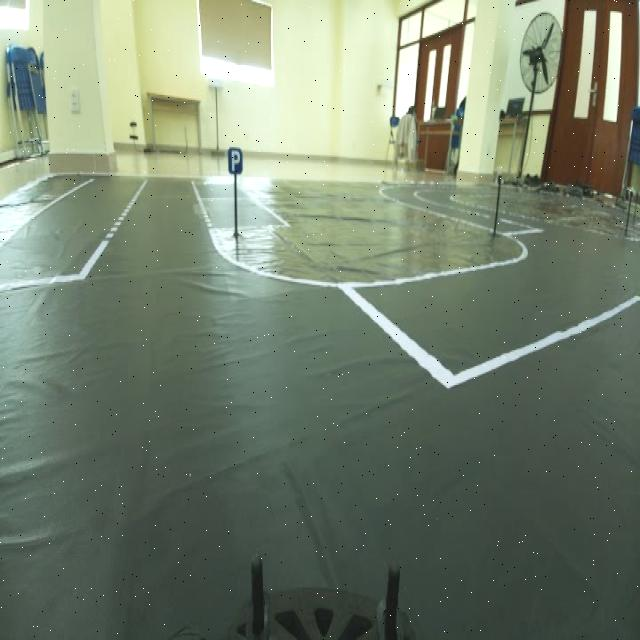parking: (228, 142, 242, 180)
